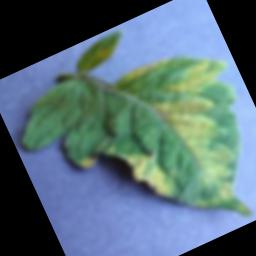Leaf_Mold: (139, 47, 256, 215), (101, 127, 180, 216), (107, 50, 178, 93), (72, 146, 106, 174)
